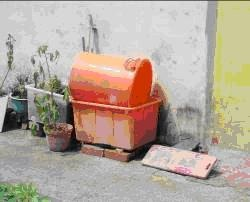box: (68, 97, 162, 150), (25, 79, 68, 125)
bucket: (67, 52, 153, 107)
